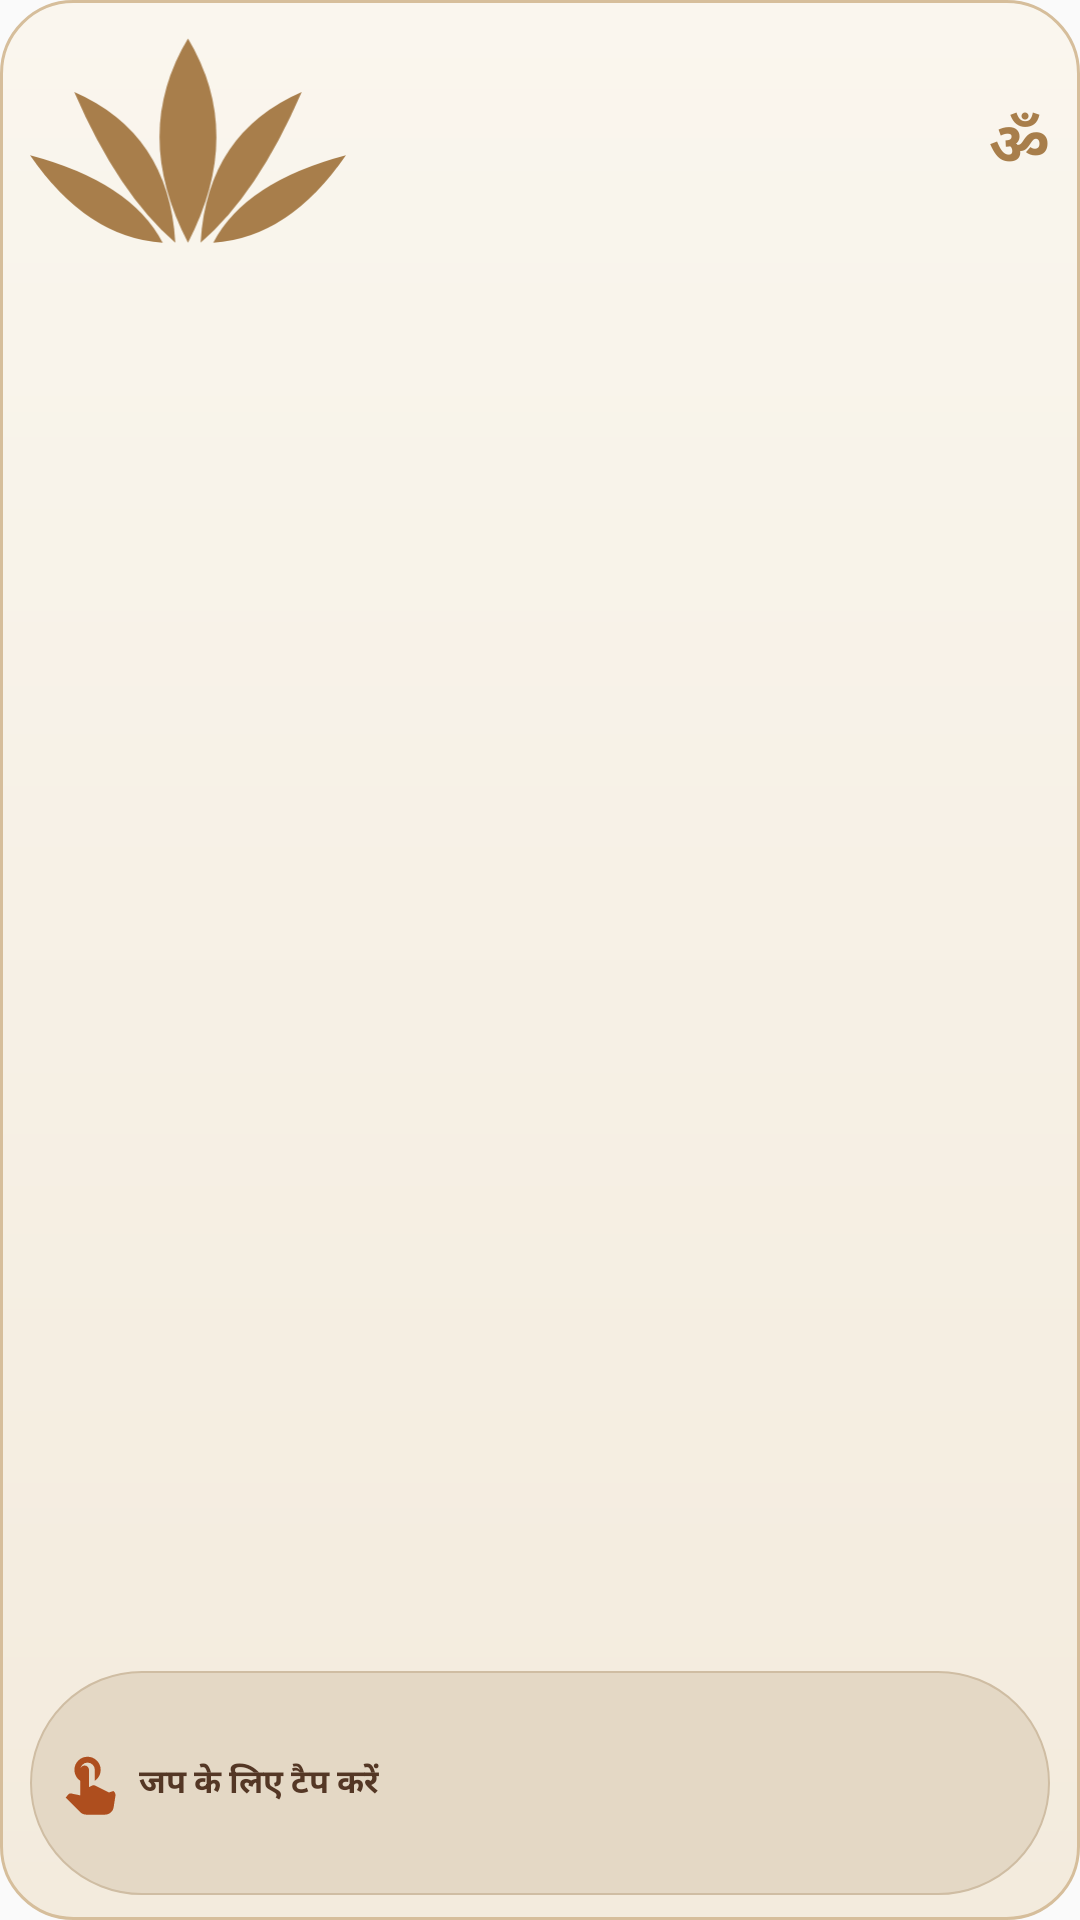

Icons on this 1080×1920 Android screen, each with the point to tap as (x,y):
Lotus: (188,141)
Tap: (91,1785)
